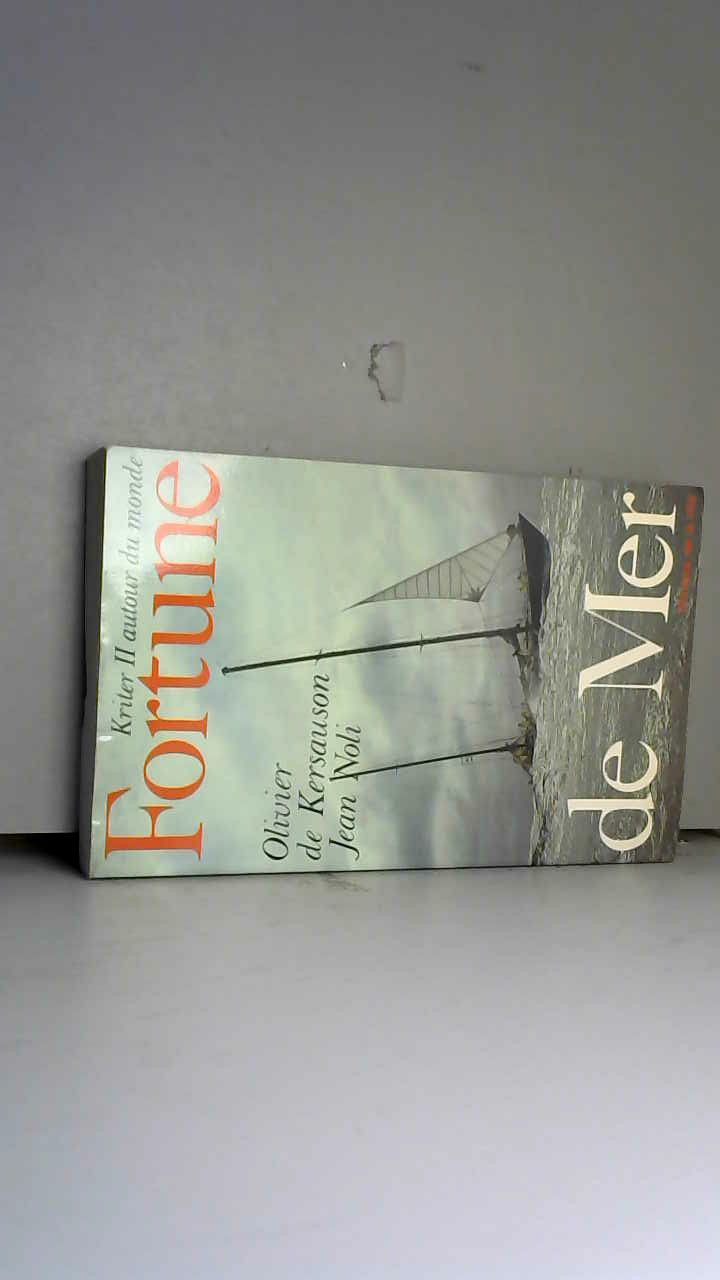book: (62, 426, 717, 897)
